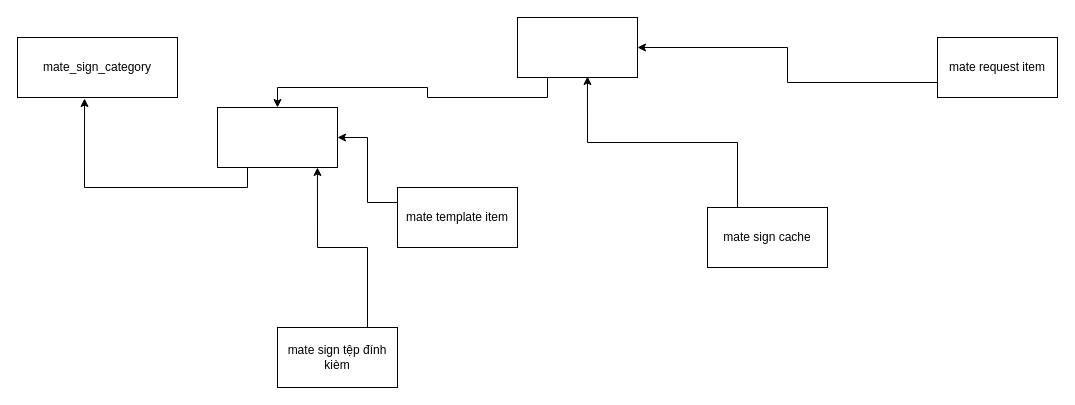
This 1075x405 diagram has some shape labels left out. The centre of each missing label's shape, as x and y in pixels:
mate request: the point at 577,47
mate template: the point at 277,137
